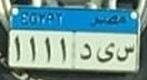1: (43, 36, 52, 62), (29, 34, 36, 62), (14, 35, 21, 62), (60, 38, 68, 61)
daal: (80, 43, 93, 63)
seen: (116, 43, 136, 62)
yaa: (96, 41, 115, 65)
